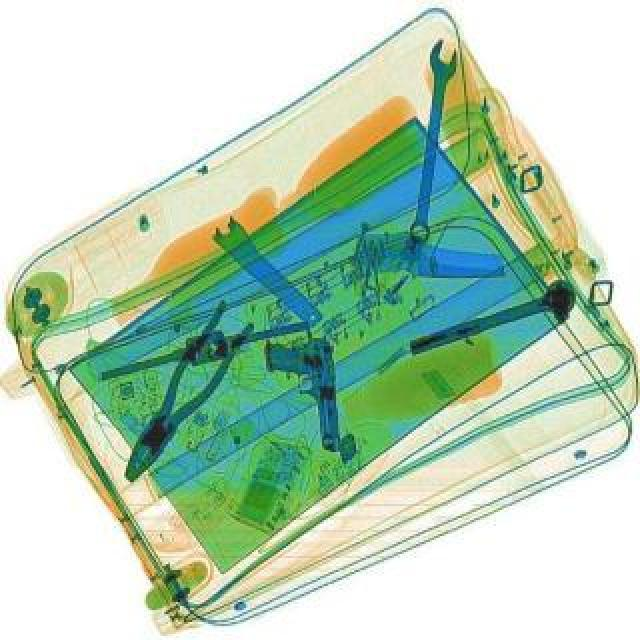gun: (264, 332, 342, 452)
scissors: (404, 36, 460, 246)
wrench: (108, 296, 262, 492)
